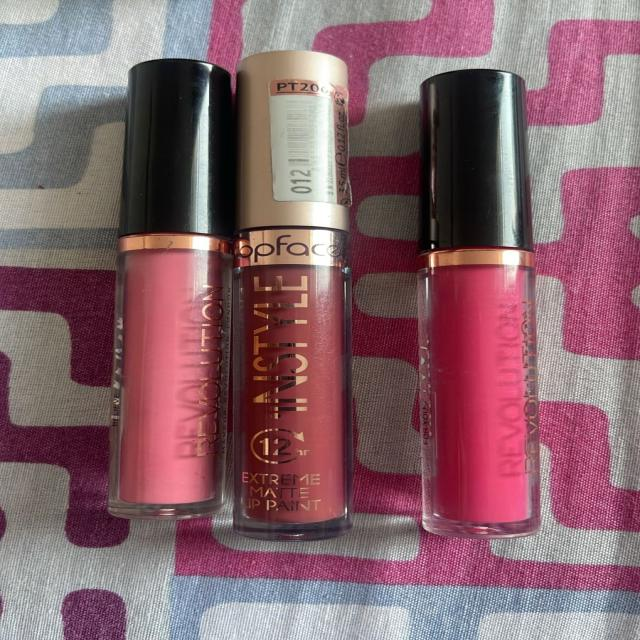lip gloss: (98, 22, 350, 575), (410, 47, 574, 554)
